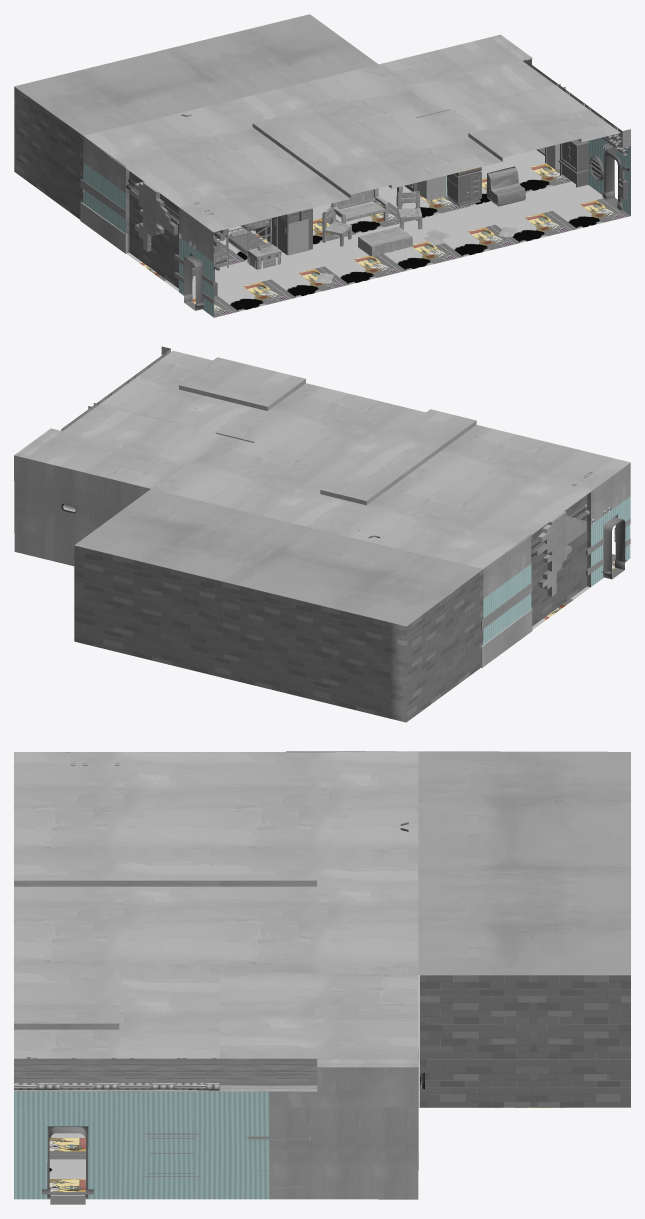
File: MSH_LivingQuarters_L3_R3_Minutemen_optimized.fbx
The picture shows the model from 3 angles, top to bottom: view 1: azimuth 30°, elevation 25°; view 2: azimuth 150°, elevation 25°; view 3: azimuth 270°, elevation 25°; orthographic projection. The views are drawn at different scales.
Parts seen in each view (by area): view 1: lightmap0, MSH_living_quarters_Railroad_L3_R3_Dirt_01, lightmap-1; view 2: lightmap0; view 3: lightmap0, MSH_living_quarters_L3_R3_Railroad_Pipes_03.
Boxes of the visible parts, <box> form: lightmap0: <box>14,14,630,317</box>; MSH_living_quarters_Railroad_L3_R3_Dirt_01: <box>288,109,449,255</box>; lightmap-1: <box>315,226,517,283</box>; lightmap0: <box>14,346,630,722</box>; lightmap0: <box>14,751,630,1204</box>; MSH_living_quarters_L3_R3_Railroad_Pipes_03: <box>14,1082,219,1090</box>.
Size of the model in its own units: 30.91 by 6.32 by 24.78.
